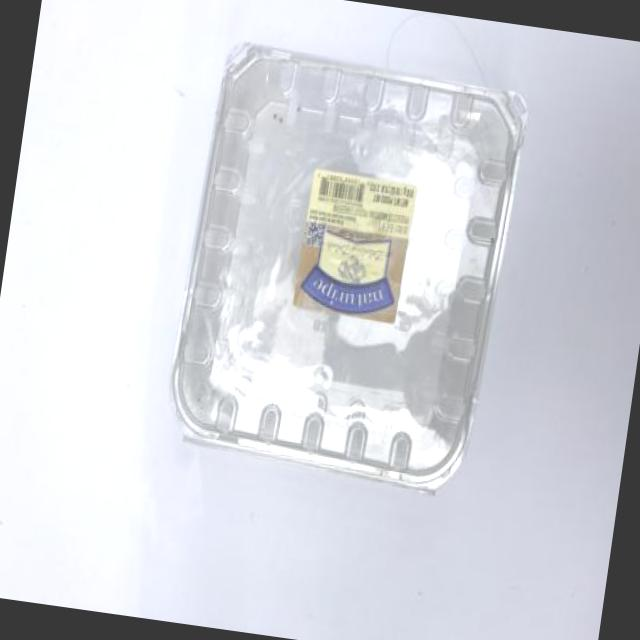Trash: (160, 30, 536, 502)
